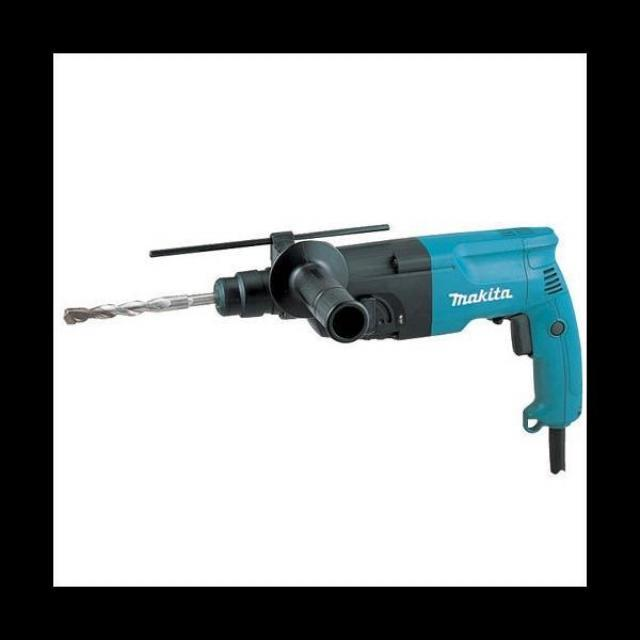drill: (62, 225, 584, 474)
